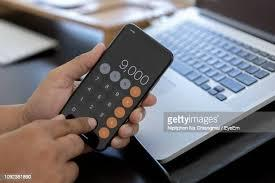Calculator: (64, 55, 153, 148)
